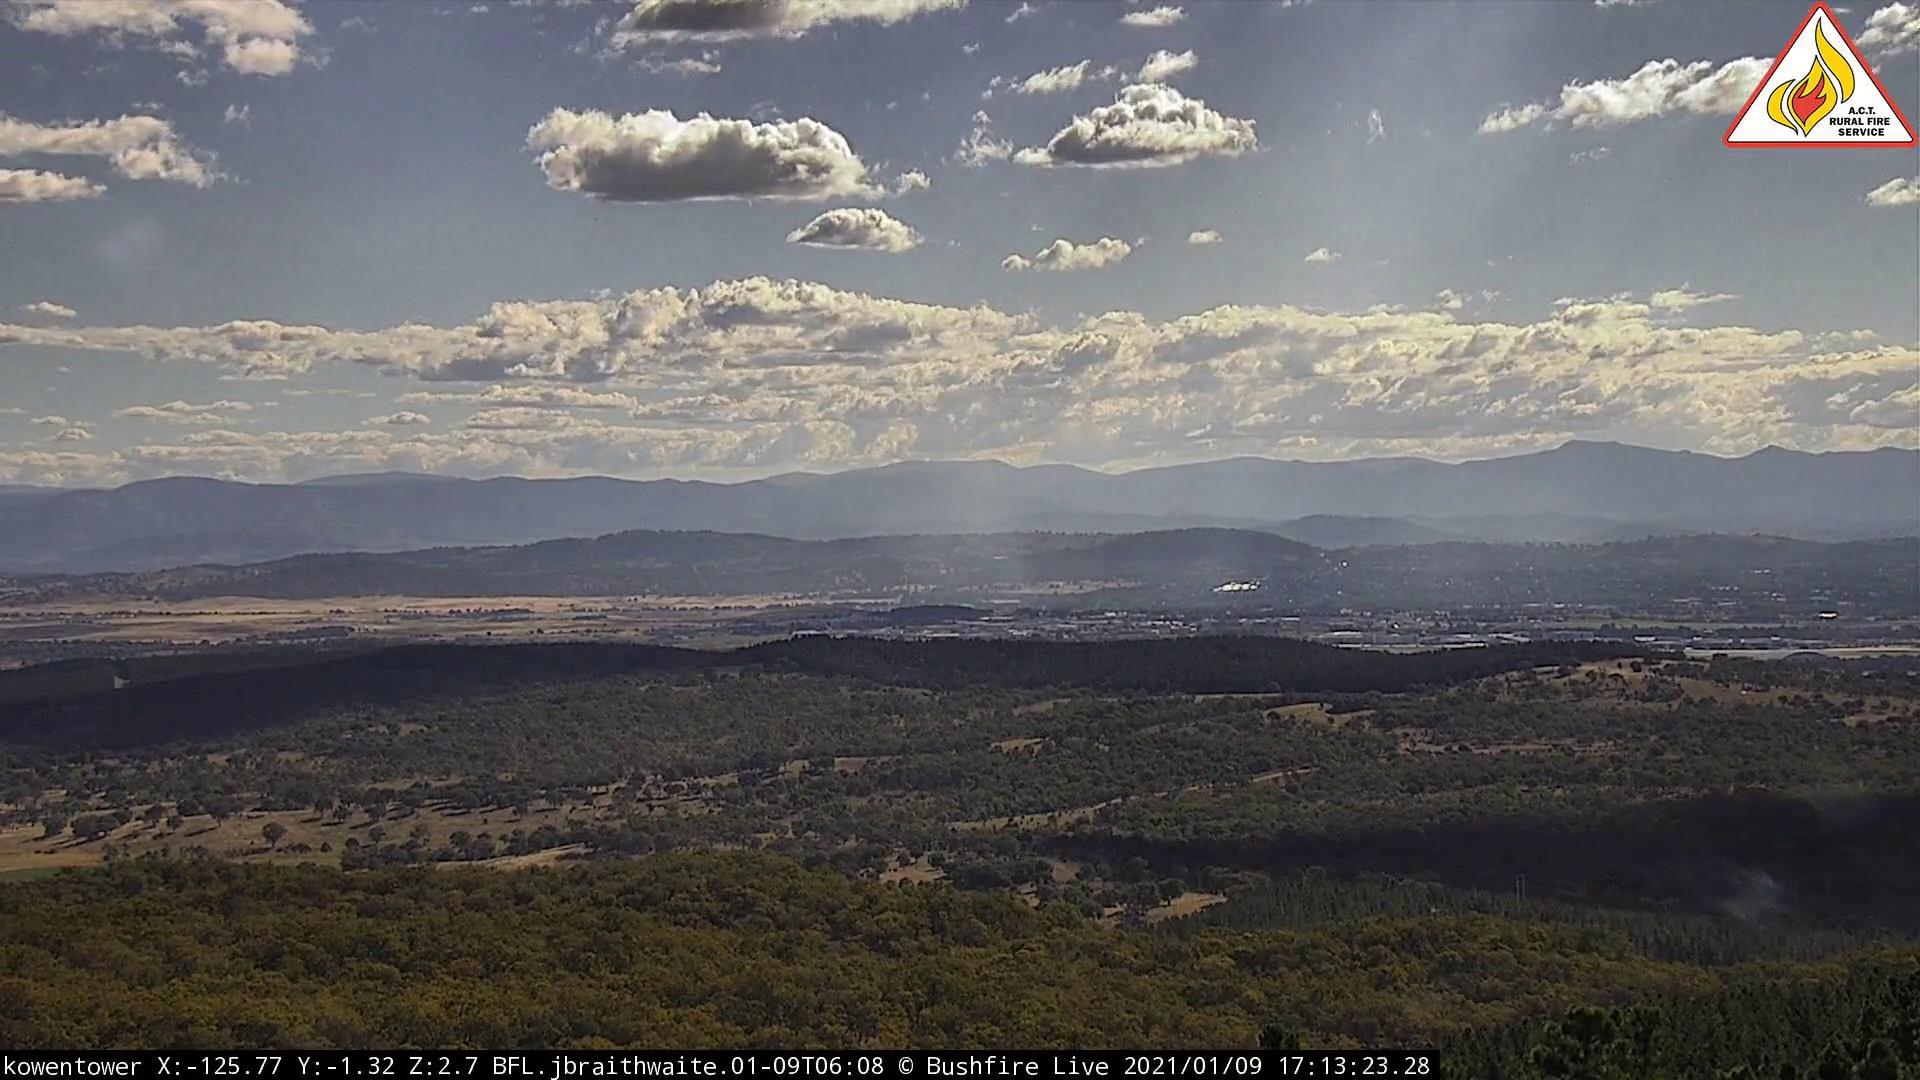Smoke: (860, 524, 1040, 611)
